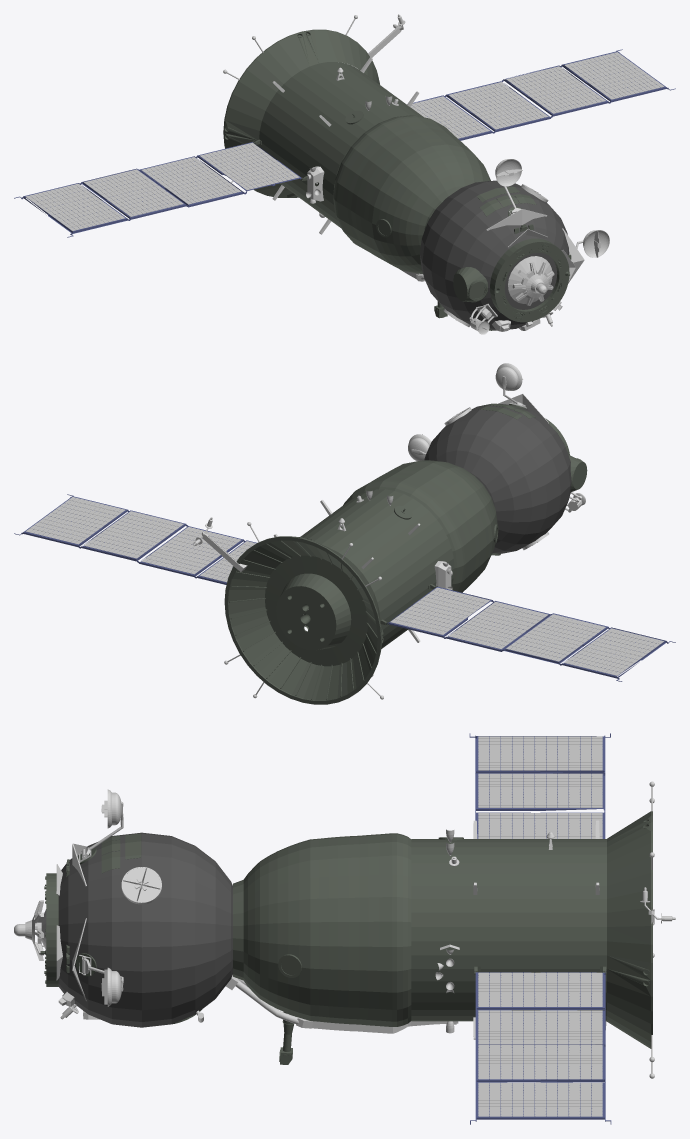
The picture shows the model from 3 angles, top to bottom: view 1: azimuth 30°, elevation 25°; view 2: azimuth 150°, elevation 25°; view 3: azimuth 270°, elevation 25°; orthographic projection. The views are drawn at different scales.
Size of the model in its own units: 10.6 by 3.44 by 7.58.
